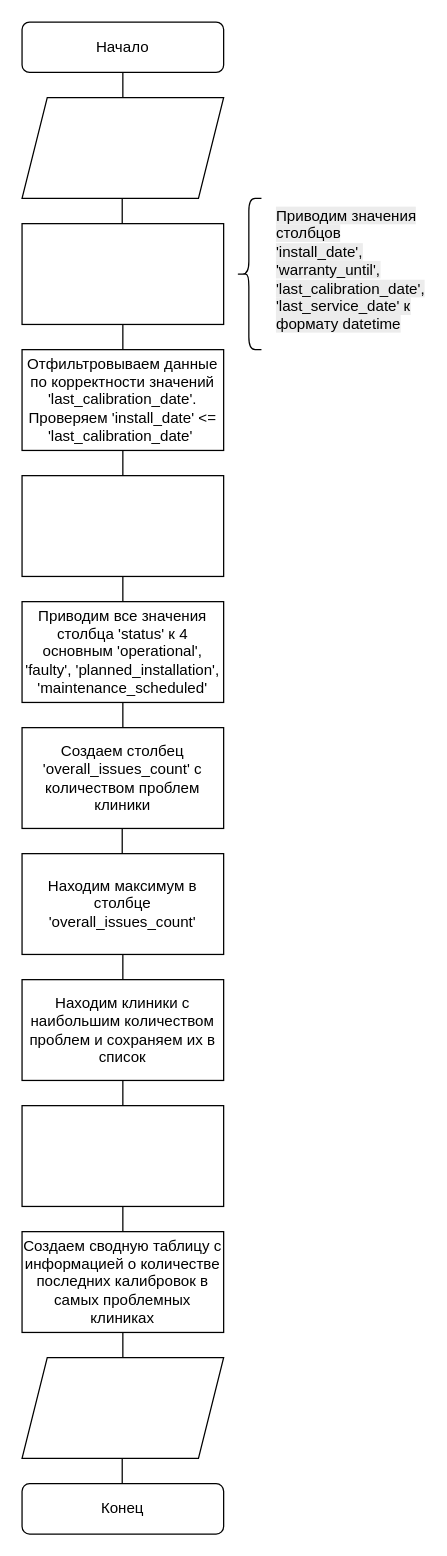
The diagram is 447 pixels wide and 1556 high, and some of its shapes have lost their labels. Each missing label, with the centre of its shape:
Возвращаем сводную таблицу: pixel 122 1407
Отфильтровываем данные по гарантии. Проверяем что гарантия еще не закончилась: pixel 122 525
Получение таблицы: pixel 122 147
Фильтрация. Оставляем в таблице только строки с самыми проблемными клиниками: pixel 122 1155
